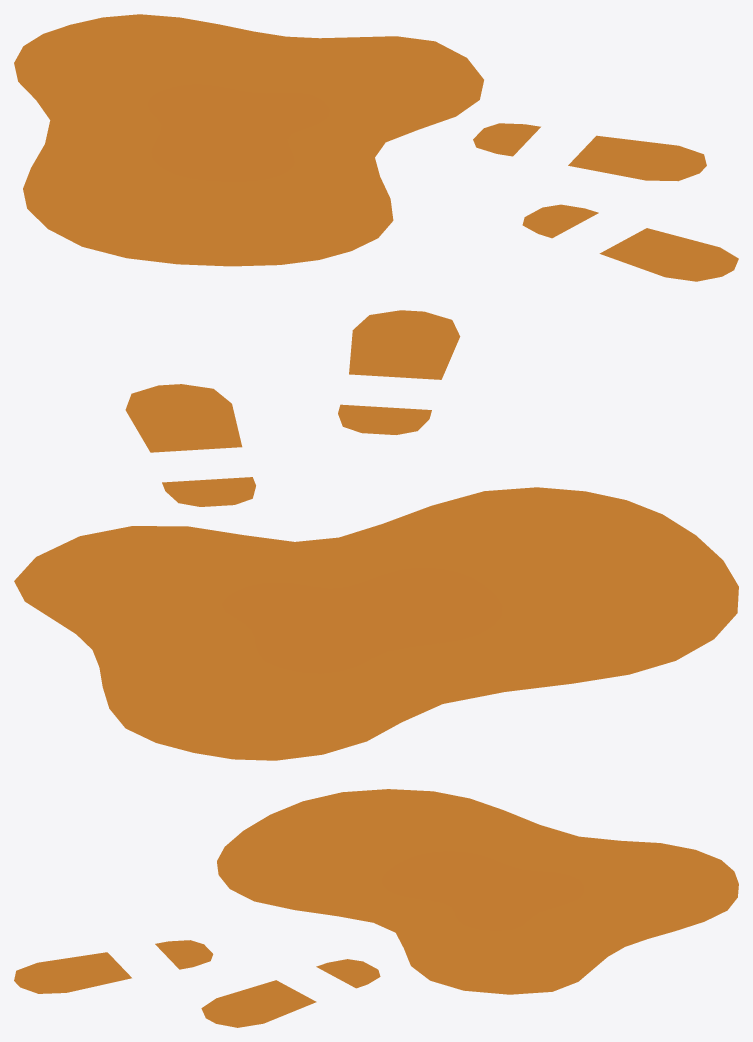
The model's file is puddle.gltf.
The picture shows the model from 3 angles, top to bottom: view 1: azimuth 30°, elevation 25°; view 2: azimuth 150°, elevation 25°; view 3: azimuth 270°, elevation 25°; orthographic projection. The views are drawn at different scales.
Visible parts, largest first — view 1: Plane.001, Plane.002, Plane.003; view 2: Plane.001, Plane.002, Plane.003; view 3: Plane.001, Plane.002, Plane.003.
Boxes of the visible parts, bbox=[...] form: Plane.001: bbox=[14, 14, 483, 266]; Plane.002: bbox=[522, 204, 738, 281]; Plane.003: bbox=[473, 123, 706, 181]; Plane.001: bbox=[14, 487, 738, 760]; Plane.002: bbox=[338, 310, 460, 434]; Plane.003: bbox=[125, 384, 255, 506]; Plane.001: bbox=[217, 789, 738, 994]; Plane.002: bbox=[14, 940, 213, 993]; Plane.003: bbox=[201, 959, 380, 1027].
Size of the model in its own units: 1.01 by 3.34e-16 by 1.29.
